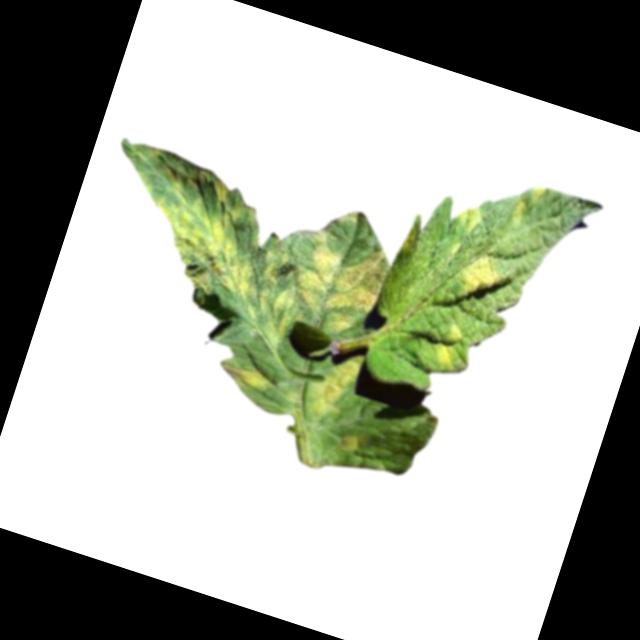Leaf_Mold: (78, 134, 316, 337), (279, 224, 395, 343), (298, 345, 367, 433), (450, 241, 510, 302), (216, 356, 273, 399), (430, 316, 471, 373), (509, 177, 550, 233), (449, 195, 485, 237), (336, 429, 360, 455)
